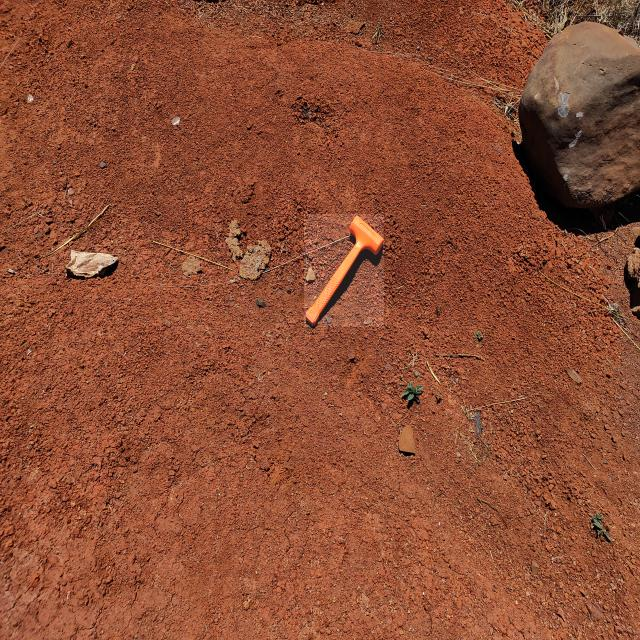Orange_hammer: (304, 214, 384, 327)
